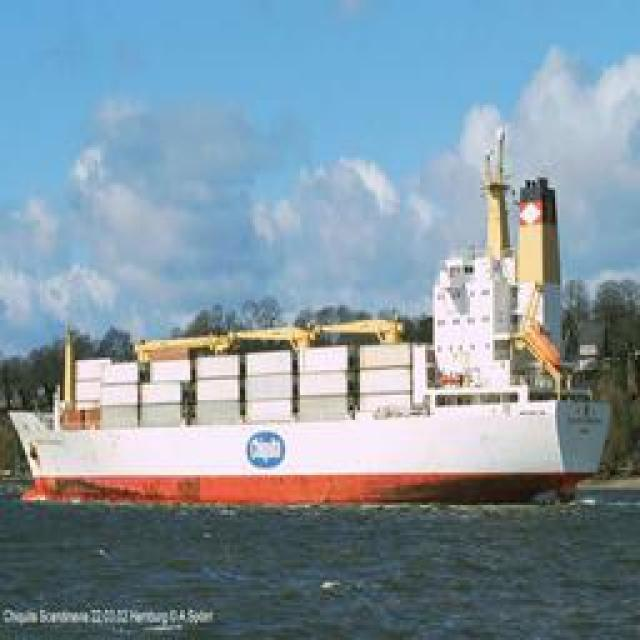CIV_Ship: (9, 336, 604, 507)
